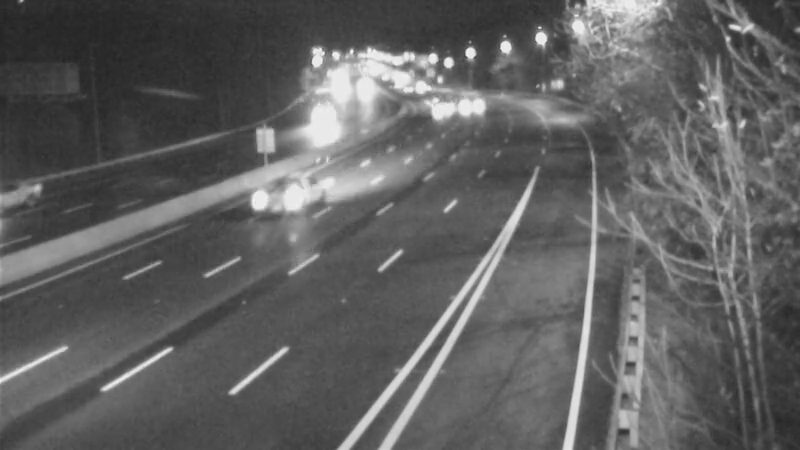vehicle: (227, 162, 307, 242), (1, 158, 69, 238), (444, 81, 494, 131), (418, 85, 468, 135), (299, 93, 349, 143)
